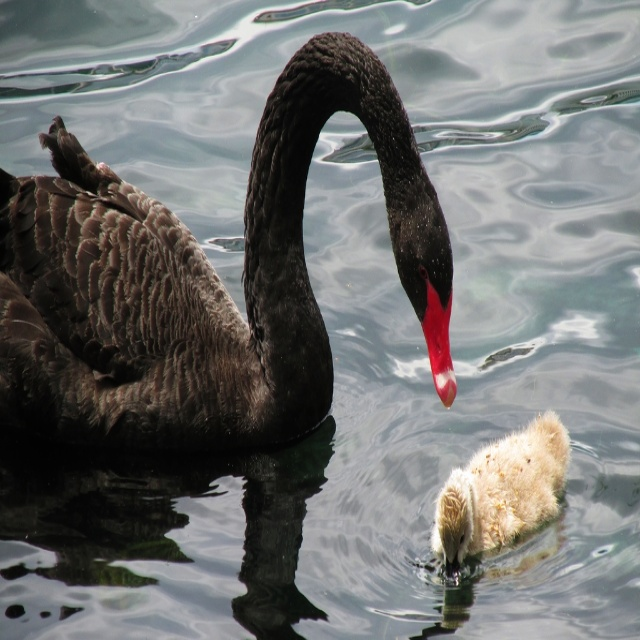Swan: (0, 31, 457, 445), (430, 406, 573, 565)
